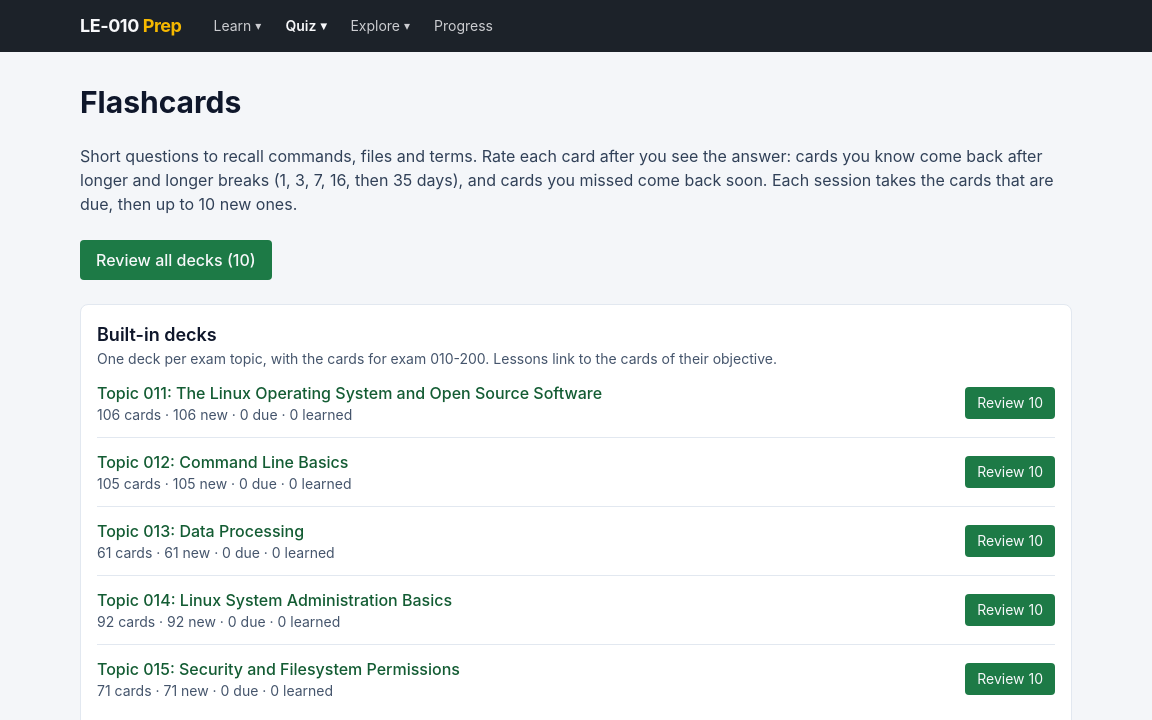
pages › reviews built-in flashcards and keeps their review state
Later steps or results of the test are not shown.
Expected: the heading "Flashcards" is shown, x1=80 y1=84 x2=241 y2=120
Click the 1st link "Review 10" at (1010, 403), box x1=965 y1=387 x2=1055 y2=419
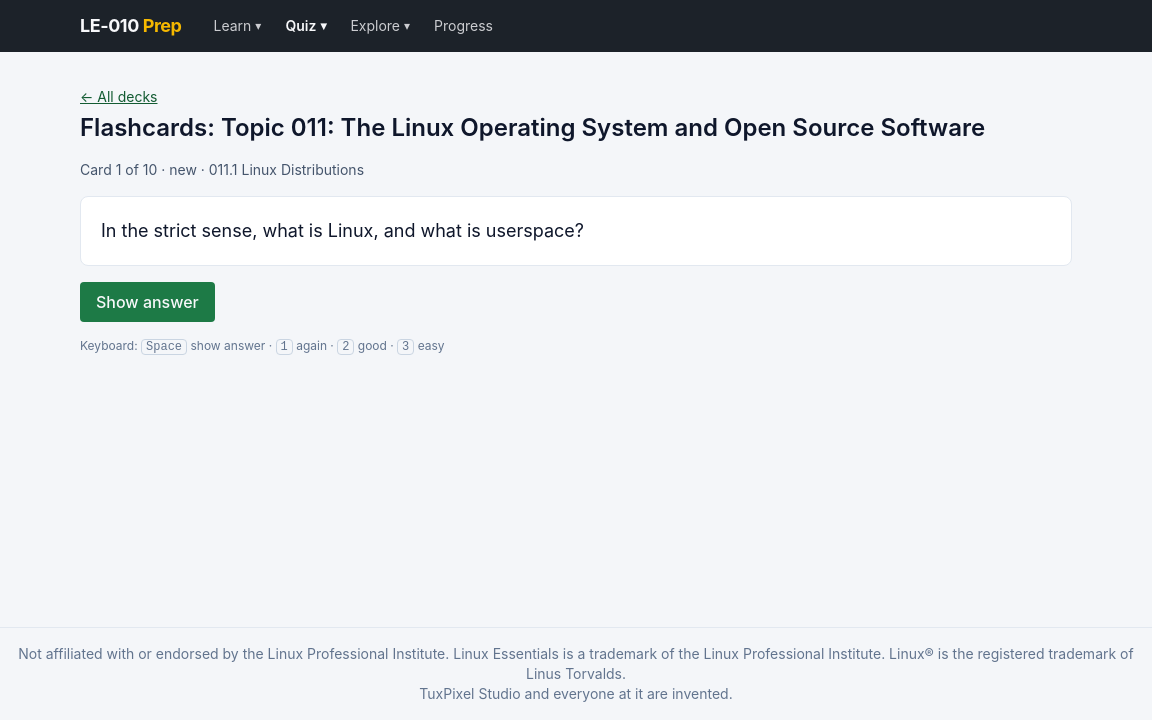
Click the button "Show answer" at (147, 302), box x1=80 y1=282 x2=215 y2=322
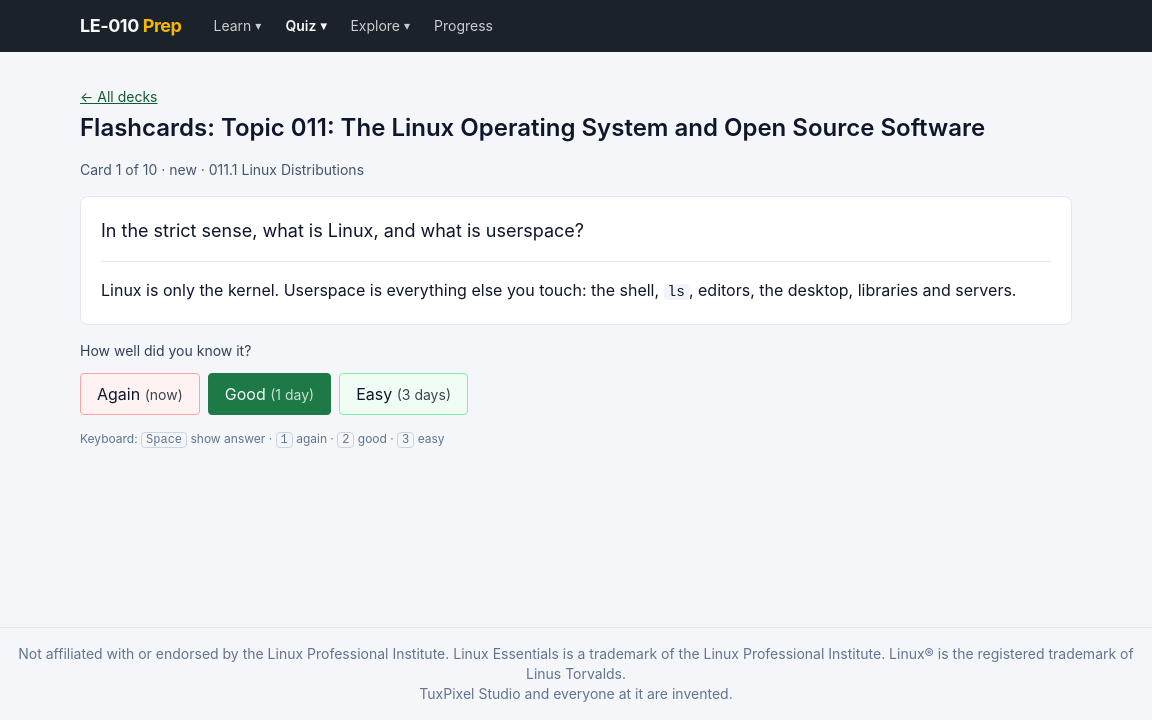
Expected: the element named "Answer" is shown, x1=101 y1=261 x2=1051 y2=304
